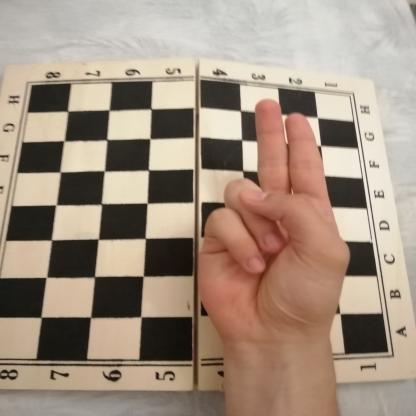TA: (178, 80, 368, 363)
